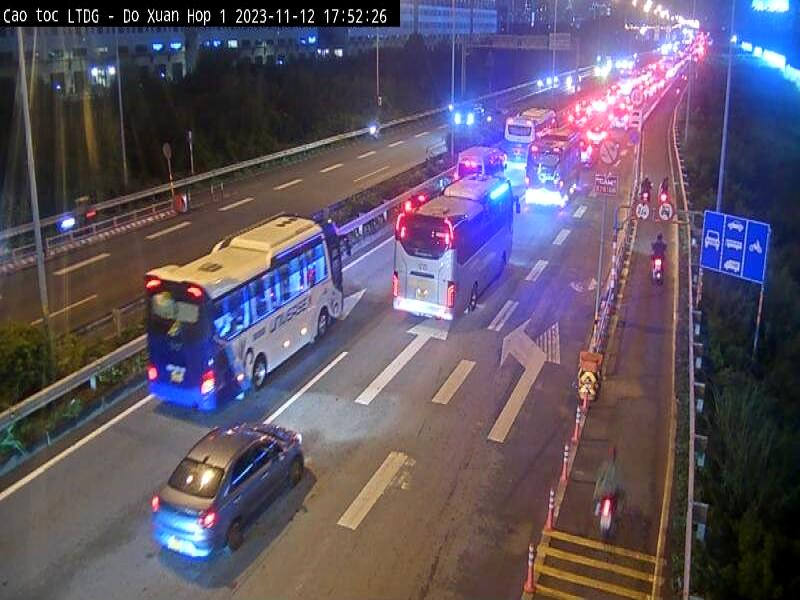bus: (144, 207, 353, 414), (388, 174, 523, 327)
